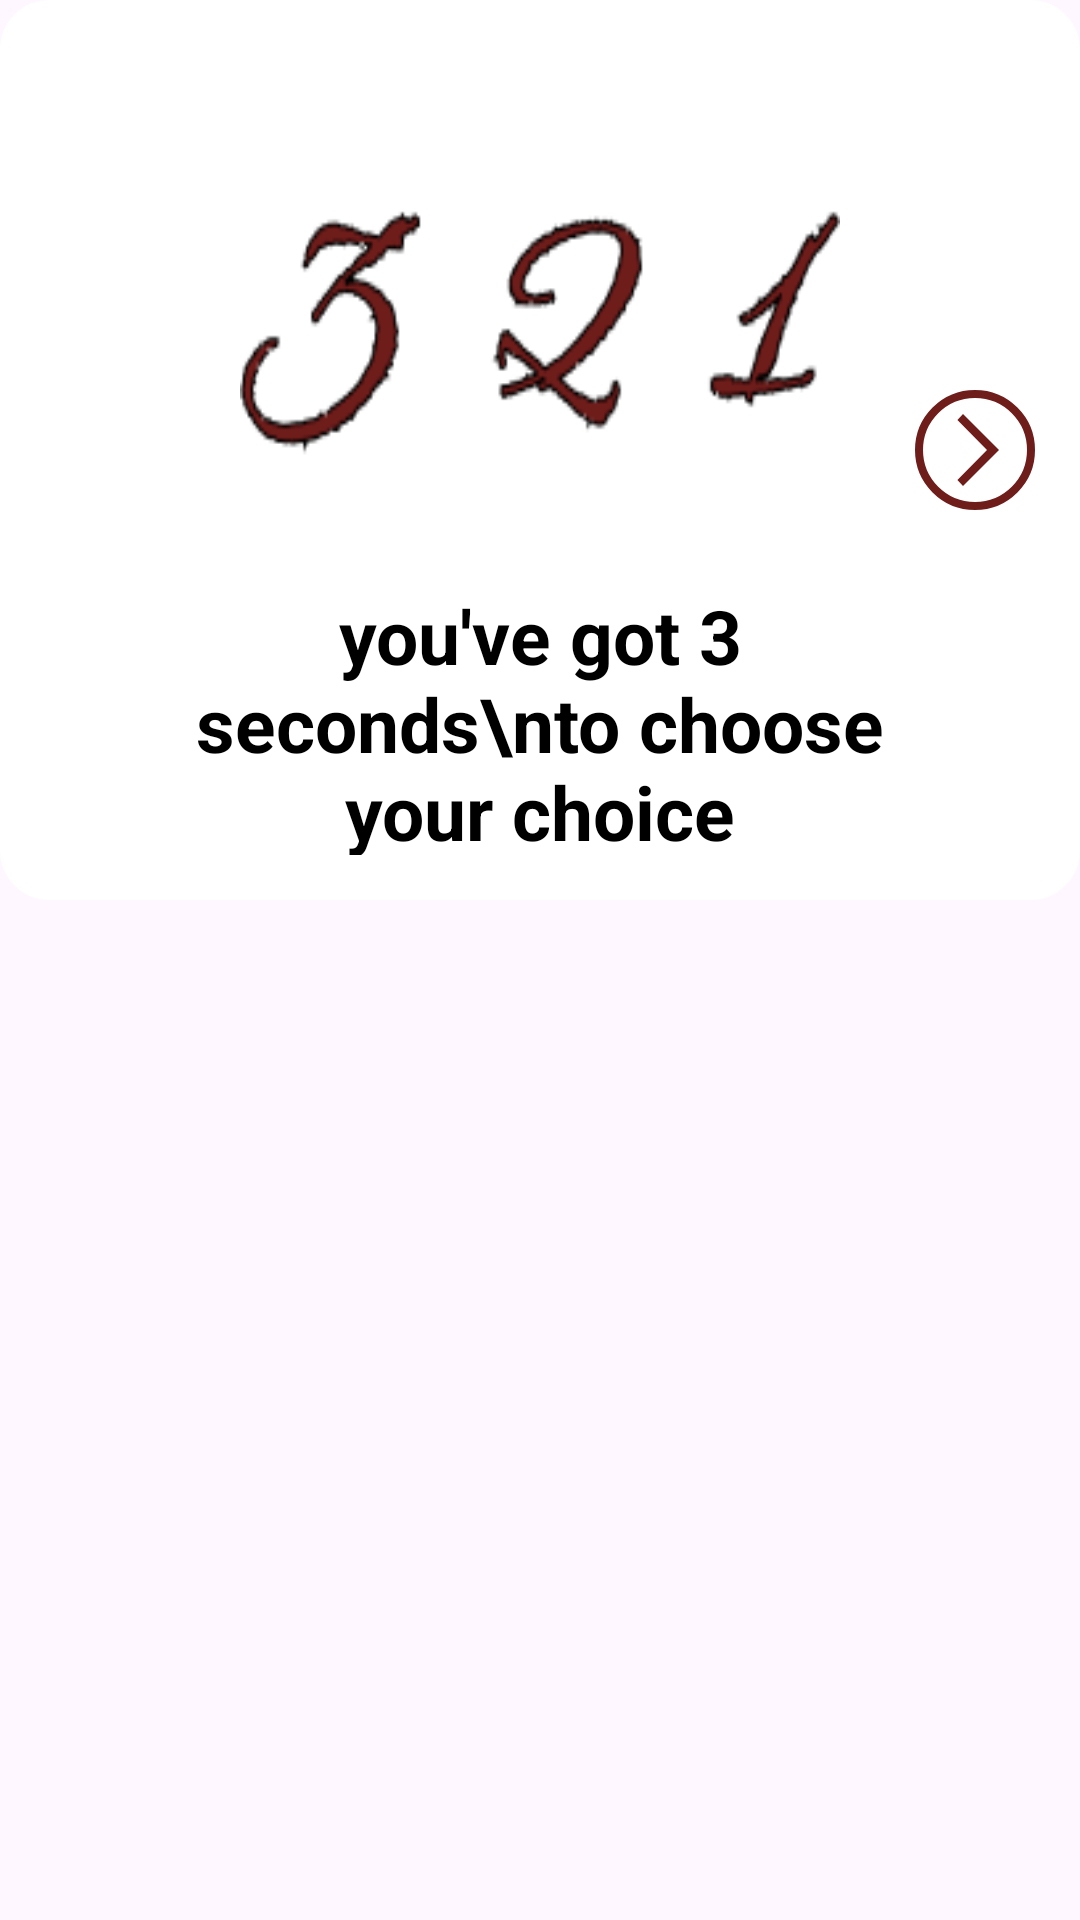

Where to tap for icons on this 1080 x 1920 app screen, as [x,y]:
next: [975,450]
